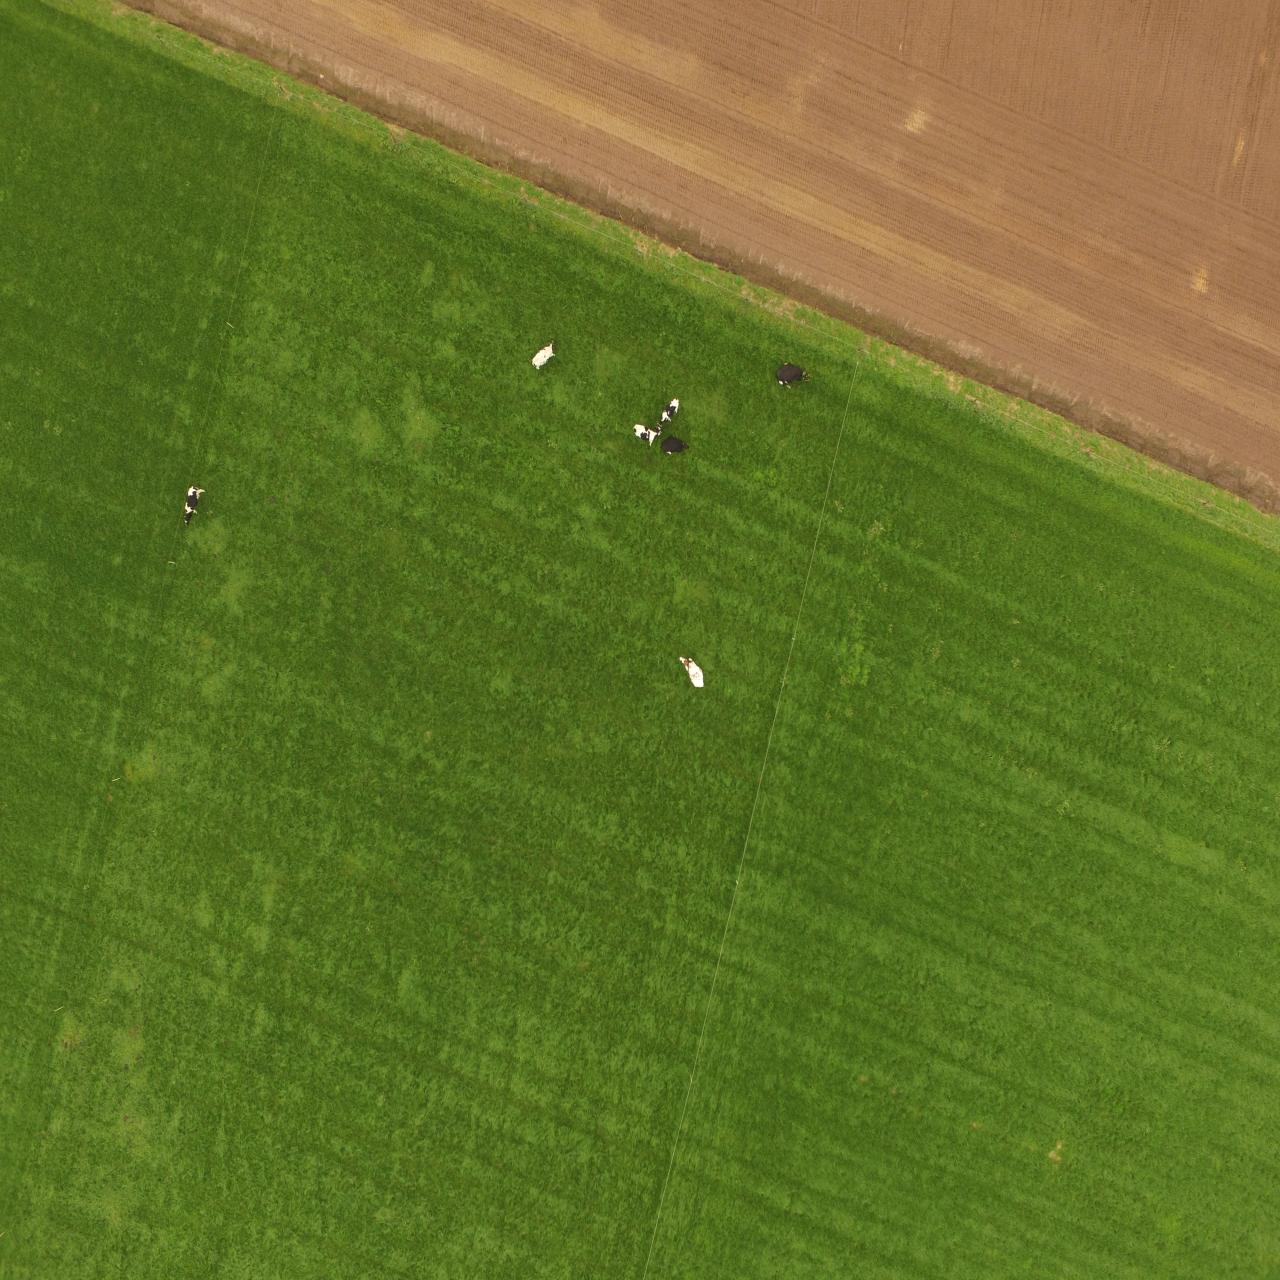cow: (179, 482, 209, 526), (769, 359, 811, 388), (675, 654, 707, 693), (527, 338, 559, 373), (662, 435, 694, 459), (633, 421, 659, 448), (658, 395, 682, 420)
